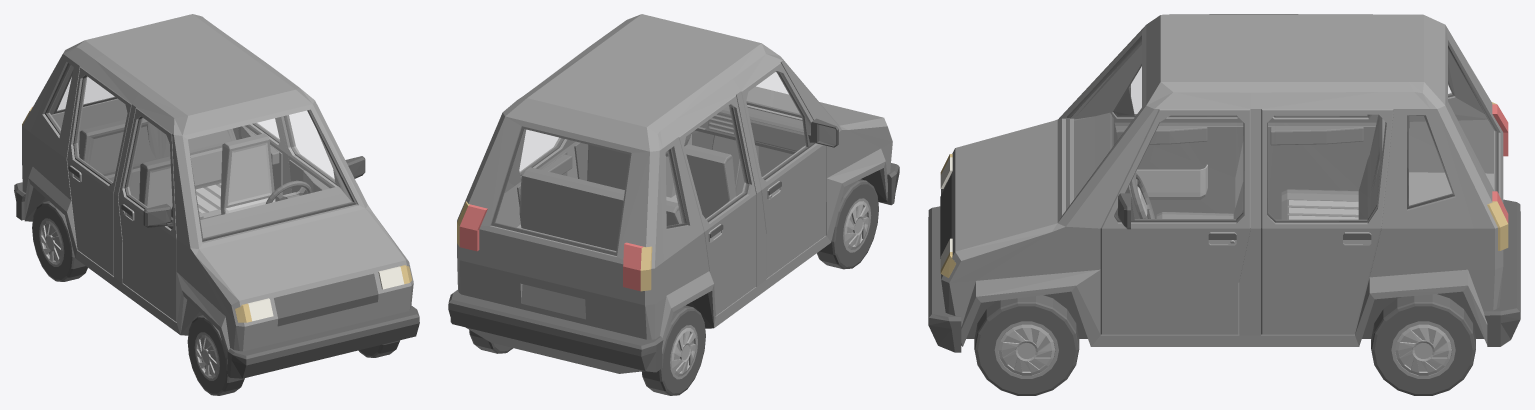
File: car.glb
3 renders of one model, left to right at view 1: azimuth 30°, elevation 25°; view 2: azimuth 150°, elevation 25°; view 3: azimuth 270°, elevation 25°, orthographic. The views are drawn at different scales.
Parts seen in each view (by area): view 1: Chassis_Chassis_0, Windows_Windows_0, Chassis_Bumpers_0, Interior_InteriorPanel_0, FR_Door_Chassis_0, RR_Door_Chassis_0, Interior_Handler_0, RR_Door_Windows_0, FR_Door_Windows_0, RR_Wheel_Tire_0, FR_Wheel_Tire_0, FL_Door_Windows_0 (+13 smaller); view 2: Chassis_Chassis_0, Windows_Windows_0, Interior_InteriorPanel_0, Chassis_Bumpers_0, FR_Door_Chassis_0, RR_Door_Chassis_0, RR_Door_Windows_0, FR_Door_Windows_0, FR_Wheel_Tire_0, RR_Wheel_Tire_0, Brake_Lights_Brake_lights_0, Interior_InteriorPanel_0.001 (+12 smaller); view 3: Chassis_Chassis_0, FL_Door_Chassis_0, RL_Door_Chassis_0, RL_Door_Windows_0, Windows_Windows_0, FL_Door_Windows_0, Chassis_Bumpers_0, RR_Door_InteriorPanel_0, FR_Door_InteriorPanel_0, RL_Wheel_Tire_0, FL_Wheel_Tire_0, Interior_InteriorPanel_0 (+14 smaller).
Boxes of the visible parts, x1,y1,x2,y2 form: Chassis_Chassis_0: [22, 14, 413, 360]; Windows_Windows_0: [48, 65, 352, 237]; Chassis_Bumpers_0: [14, 63, 419, 378]; Interior_InteriorPanel_0: [79, 118, 352, 237]; FR_Door_Chassis_0: [118, 108, 176, 321]; RR_Door_Chassis_0: [67, 67, 131, 276]; Interior_Handler_0: [147, 142, 274, 213]; RR_Door_Windows_0: [76, 77, 126, 182]; FR_Door_Windows_0: [127, 118, 171, 207]; RR_Wheel_Tire_0: [32, 201, 87, 281]; FR_Wheel_Tire_0: [187, 315, 244, 395]; FL_Door_Windows_0: [286, 111, 334, 180]; Chassis_Chassis_0: [457, 14, 892, 373]; Windows_Windows_0: [495, 73, 798, 251]; Interior_InteriorPanel_0: [519, 105, 803, 250]; Chassis_Bumpers_0: [448, 101, 899, 372]; FR_Door_Chassis_0: [741, 62, 826, 278]; RR_Door_Chassis_0: [678, 95, 756, 315]; RR_Door_Windows_0: [685, 106, 746, 219]; FR_Door_Windows_0: [747, 73, 805, 177]; FR_Wheel_Tire_0: [817, 179, 878, 269]; RR_Wheel_Tire_0: [642, 305, 705, 395]; Brake_Lights_Brake_lights_0: [459, 204, 643, 291]; Interior_InteriorPanel_0.001: [691, 113, 805, 151]; Chassis_Chassis_0: [941, 14, 1503, 346]; FL_Door_Chassis_0: [1100, 109, 1250, 334]; RL_Door_Chassis_0: [1261, 109, 1393, 334]; RL_Door_Windows_0: [1268, 115, 1384, 219]; Windows_Windows_0: [1069, 41, 1495, 205]; FL_Door_Windows_0: [1130, 116, 1242, 218]; Chassis_Bumpers_0: [928, 35, 1520, 352]; RR_Door_InteriorPanel_0: [1268, 126, 1375, 219]; FR_Door_InteriorPanel_0: [1115, 126, 1243, 218]; RL_Wheel_Tire_0: [1371, 294, 1475, 395]; FL_Wheel_Tire_0: [974, 295, 1079, 395]; Interior_InteriorPanel_0: [1074, 112, 1385, 219].
Size of the model in its own units: 5.14 by 5.15 by 9.39.
